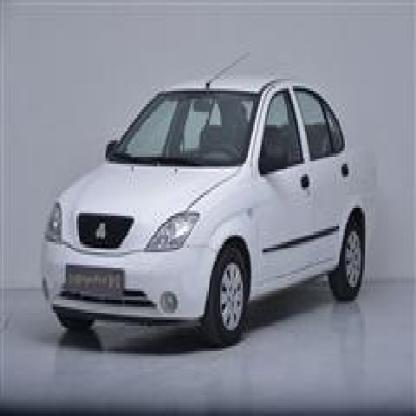Car: (35, 81, 369, 356)
